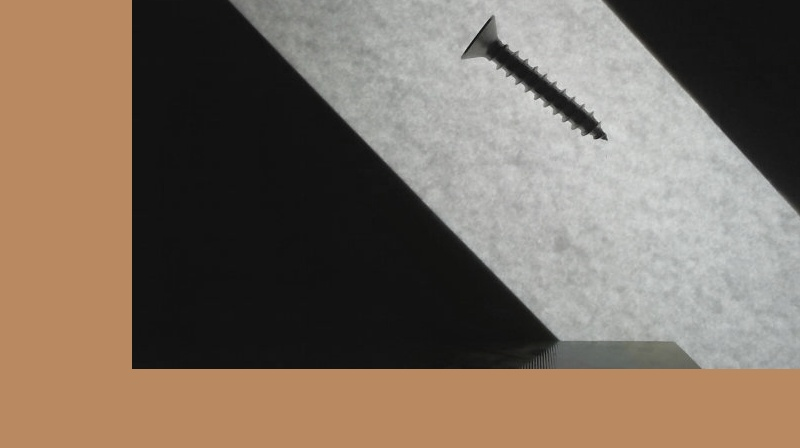S001: (456, 13, 610, 143)
